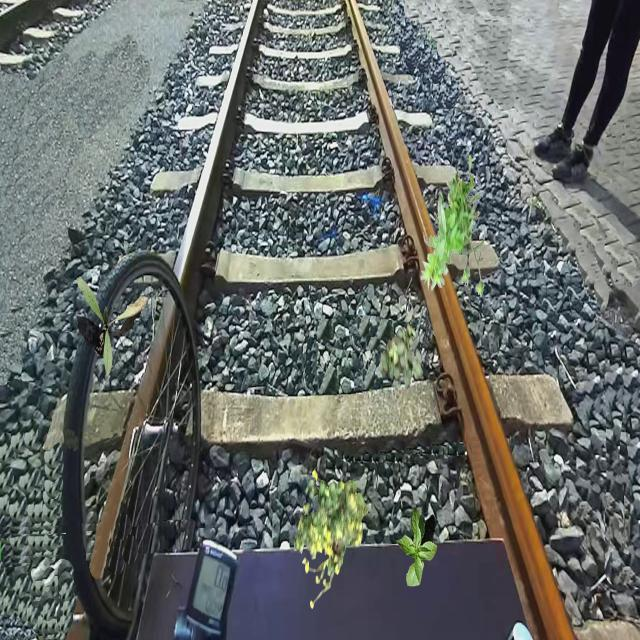Plant: (294, 470, 369, 610), (421, 155, 486, 298), (77, 277, 148, 376), (396, 507, 438, 587), (380, 322, 423, 388)
